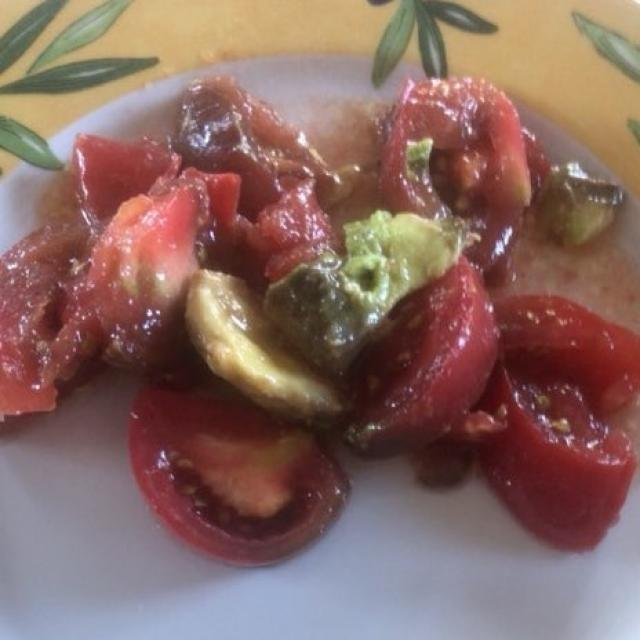avocado: (191, 164, 628, 418)
tomato: (1, 79, 636, 551)
